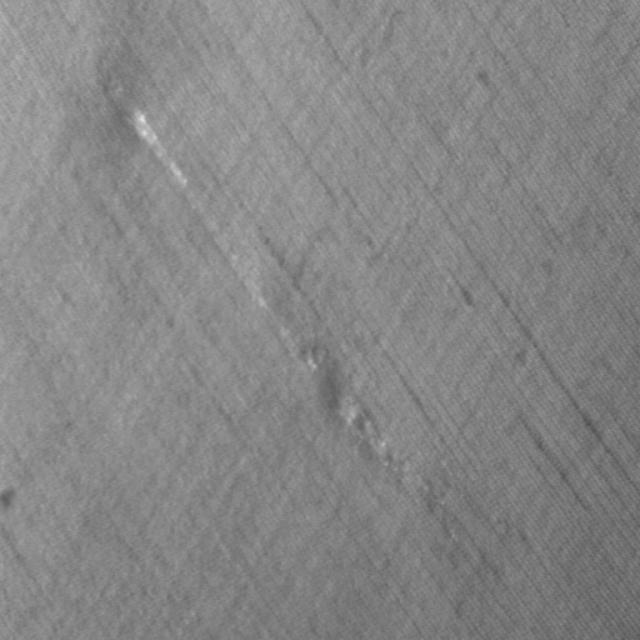thread error: (91, 43, 449, 525)
